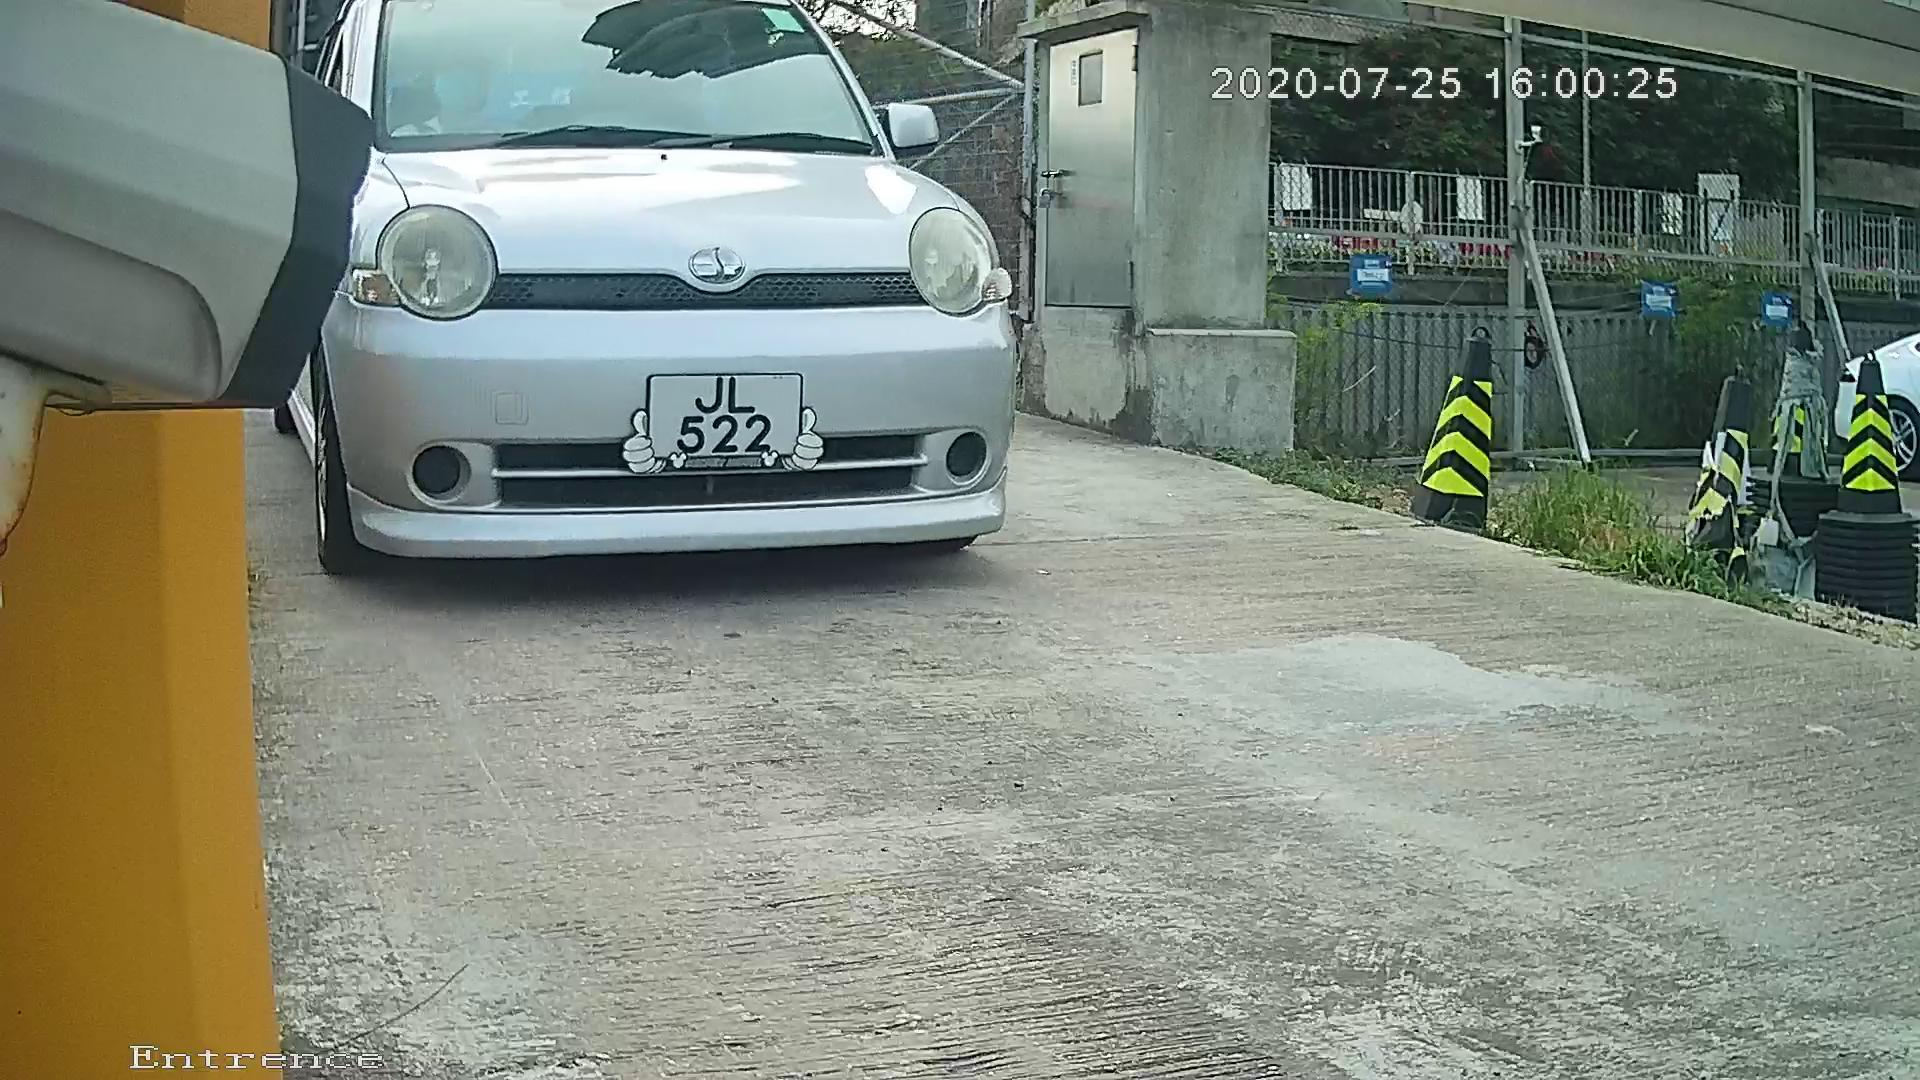License Plate: (609, 367, 823, 487)
